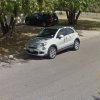Car: (22, 18, 88, 63)
